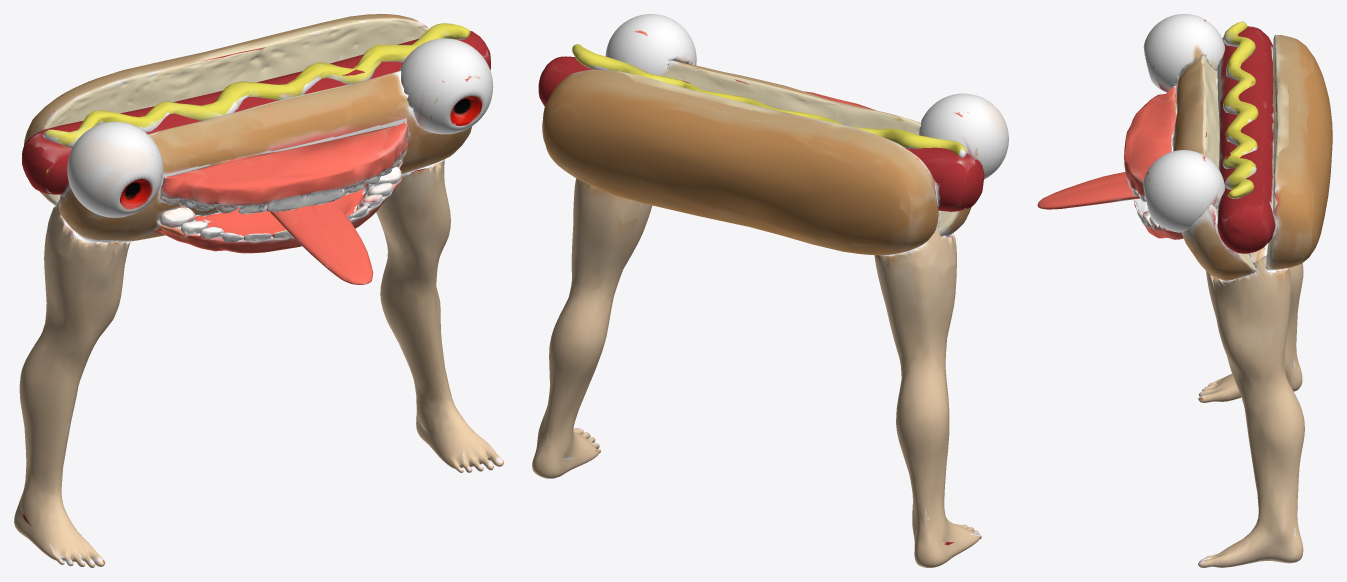
The model's file is curseddog.fbx.
The picture shows the model from 3 angles, left to right: view 1: azimuth 30°, elevation 25°; view 2: azimuth 150°, elevation 25°; view 3: azimuth 270°, elevation 25°; orthographic projection. The views are drawn at different scales.
Visible parts, largest first — view 1: glass_garbage_curseddo2g; view 2: glass_garbage_curseddo2g; view 3: glass_garbage_curseddo2g.
Part boxes in pixels (x1=…): glass_garbage_curseddo2g: x1=14, y1=14, x2=503, y2=567; glass_garbage_curseddo2g: x1=532, y1=14, x2=1008, y2=567; glass_garbage_curseddo2g: x1=1037, y1=14, x2=1332, y2=567.
Size of the model in its own units: 125 by 118 by 80.62.
Materials: 1 (1 with a texture image).
